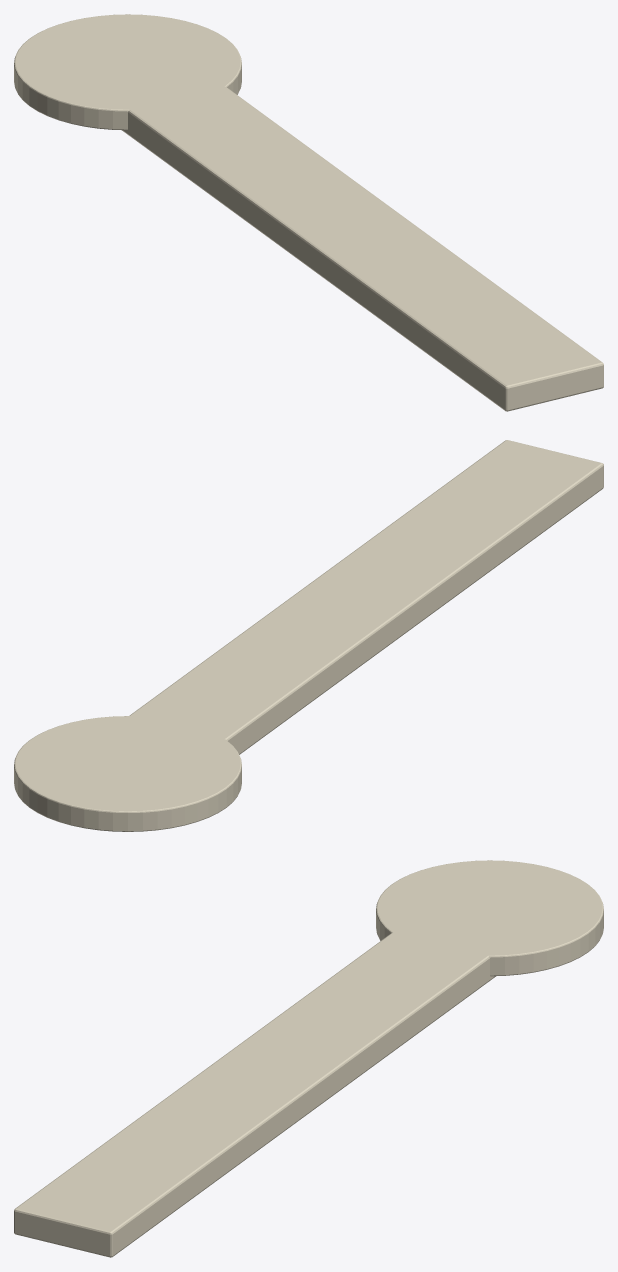
File: gangway.glb
The picture shows the model from 3 angles, top to bottom: view 1: azimuth 30°, elevation 25°; view 2: azimuth 150°, elevation 25°; view 3: azimuth 330°, elevation 25°; orthographic projection.
Visible parts, largest first — view 1: gangway; view 2: gangway; view 3: gangway.
Boxes of the visible parts, <box> form: gangway: <box>14,14,603,411</box>; gangway: <box>14,440,603,831</box>; gangway: <box>14,860,603,1257</box>.
Size of the model in its own units: 8 by 1 by 34.
